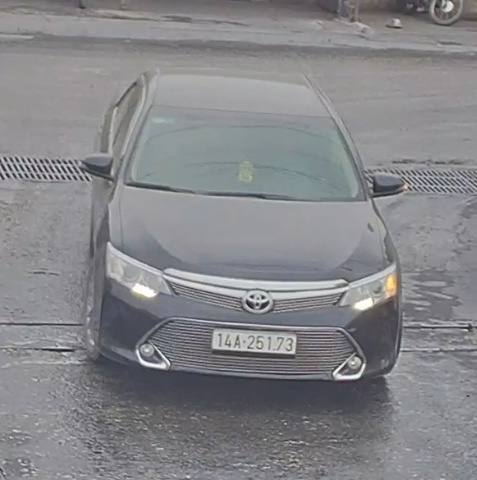vehicle plate: (204, 319, 309, 359)
